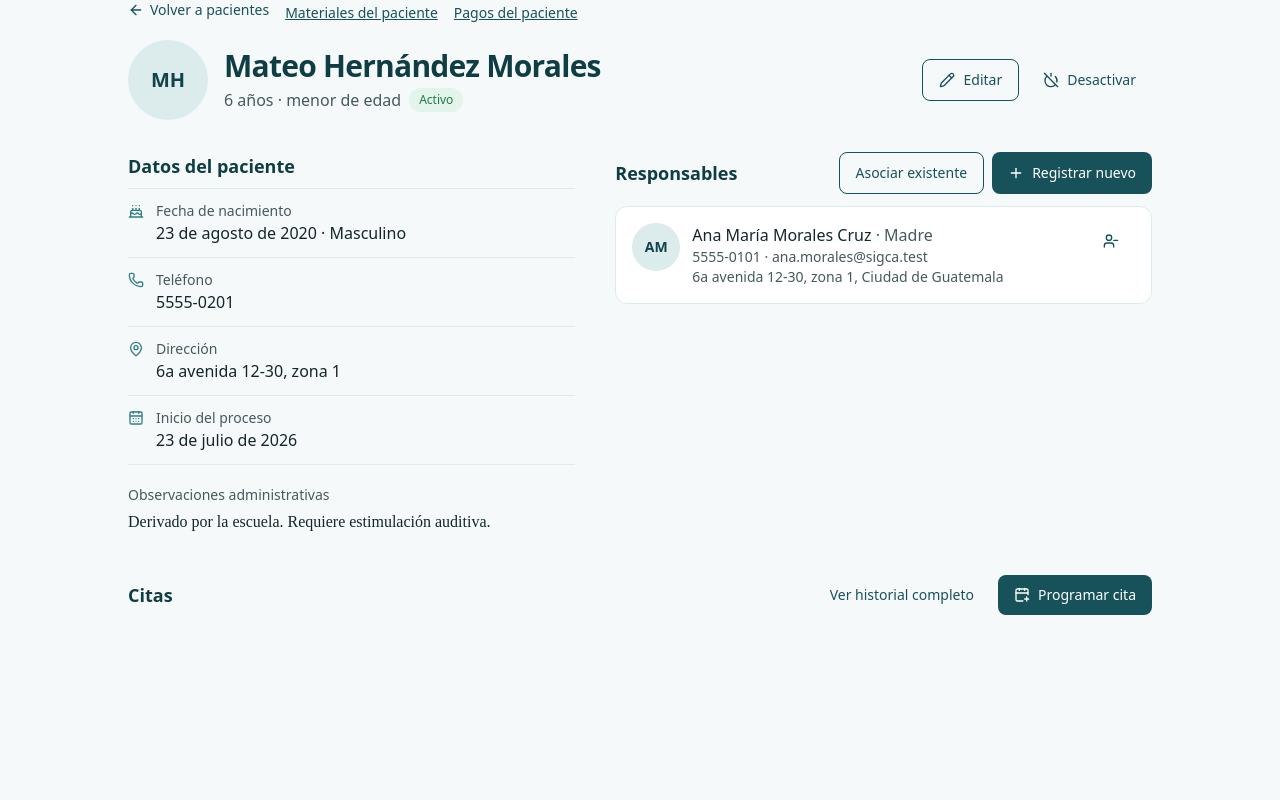
Test: Ficha del paciente › asociar un responsable existente: busca, no ofrece a los ya asociados y asocia
expect the heading "Mateo Hernández Morales" is shown: met, box [224,48,601,84]
Click the button "Asociar existente".
click(911, 173)  # box [838,152,984,194]
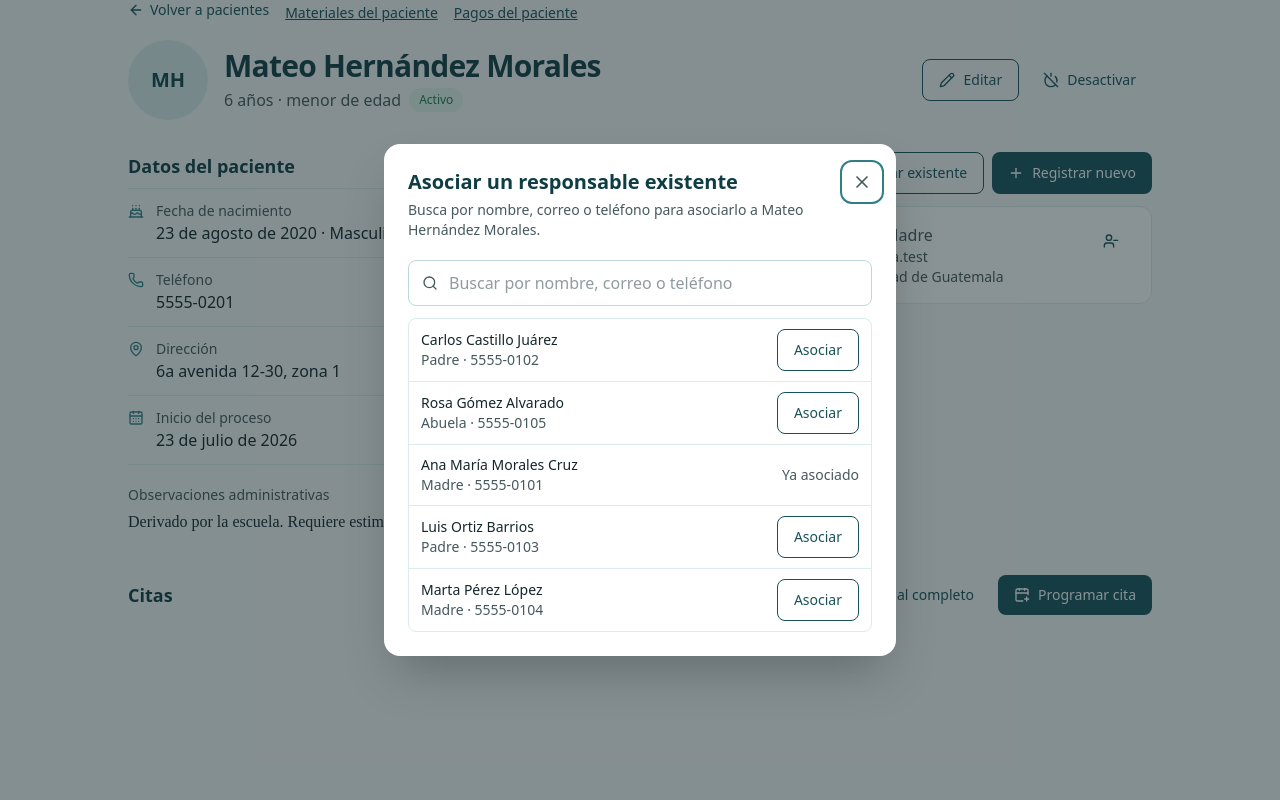
expect the text "Luis Ortiz Barrios" is shown: met, box [421,517,539,537]
expect the text "Ya asociado" is shown: met, box [782,465,859,485]
Note: la búsqueda ignora tildes
Type "perez" into the search field named "Buscar responsable".
click(640, 283); type("perez")  # box [408,260,872,306]
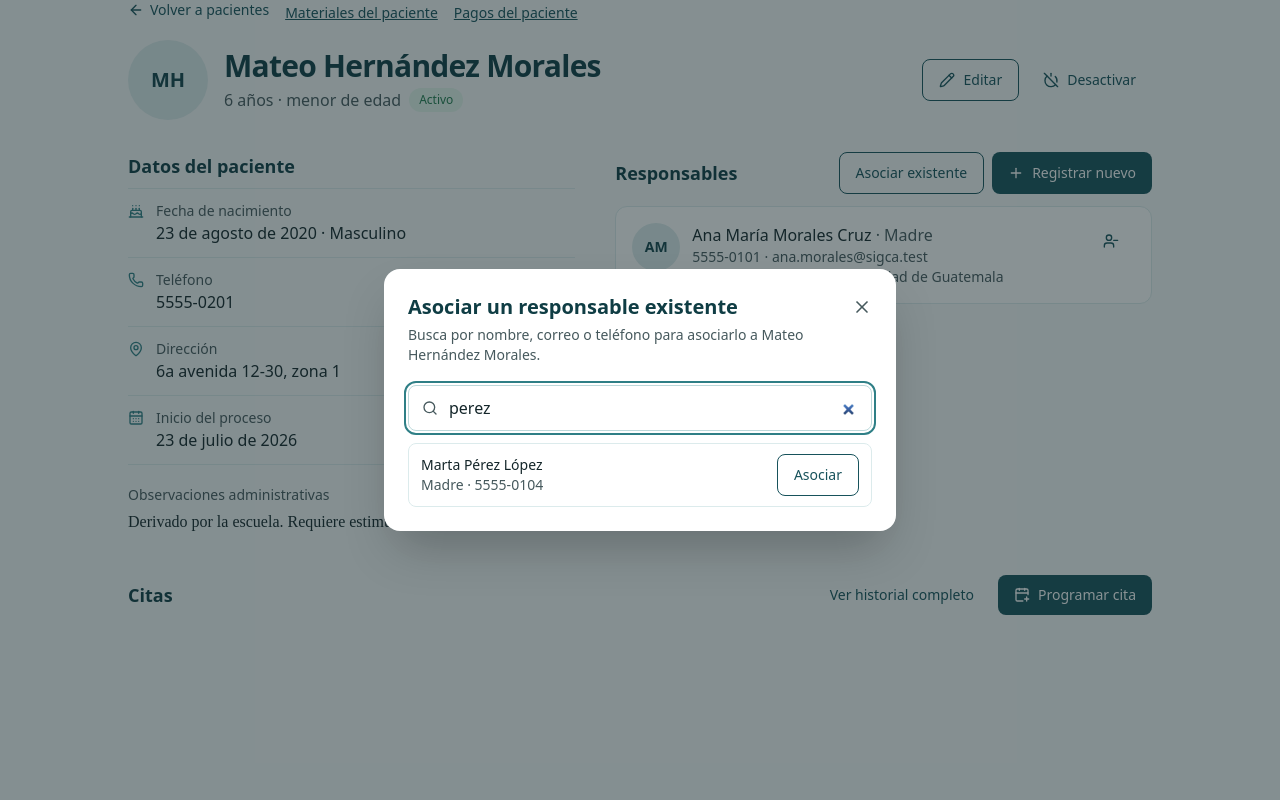
expect the text "Marta Pérez López" is shown: met, box [421,455,543,475]
expect the text "Luis Ortiz Barrios" is gone: met
Click the button with aria-label "Asociar: Marta Pérez López".
click(818, 475)  # box [777,454,859,496]
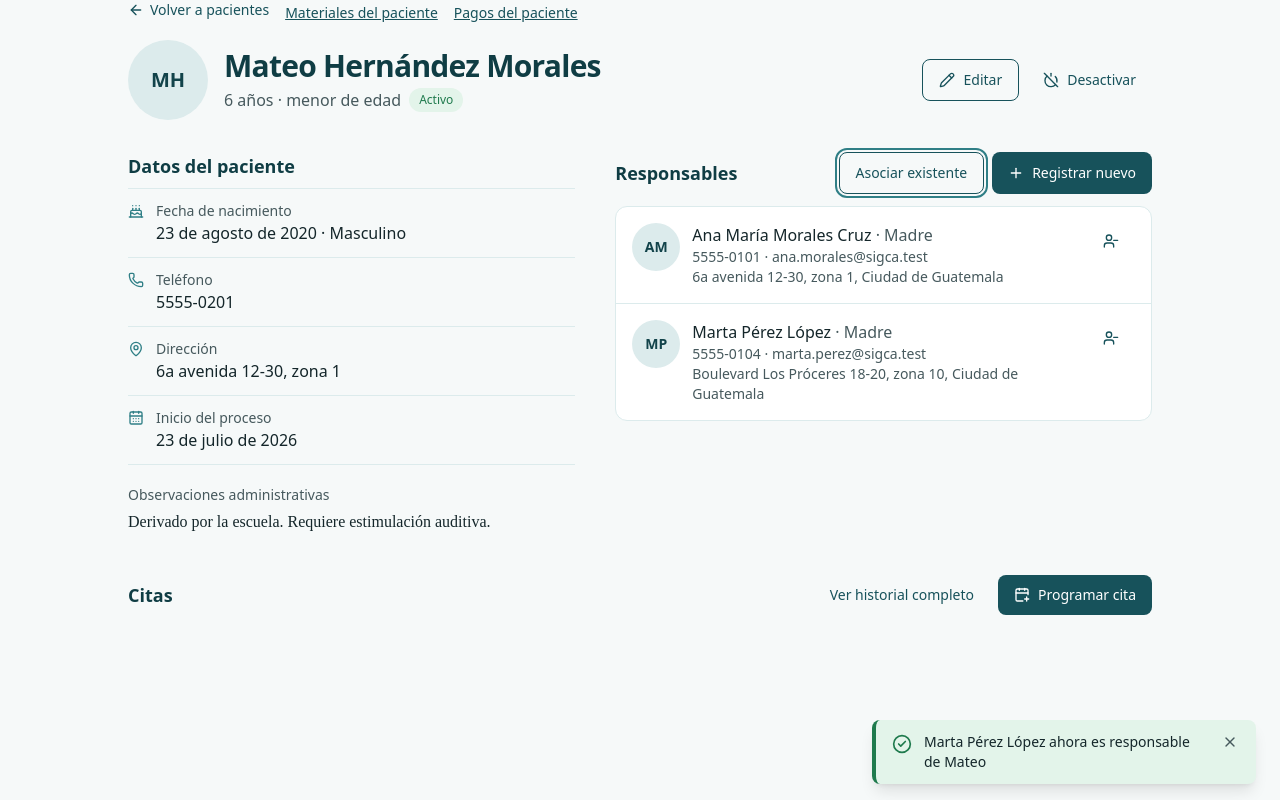
expect the text "Marta Pérez López ahora es responsable de Mateo" is shown: met, box [924,732,1208,772]
expect the dialog is gone: met
expect the text "Marta Pérez López · Madre" is shown: met, box [692,321,892,343]
